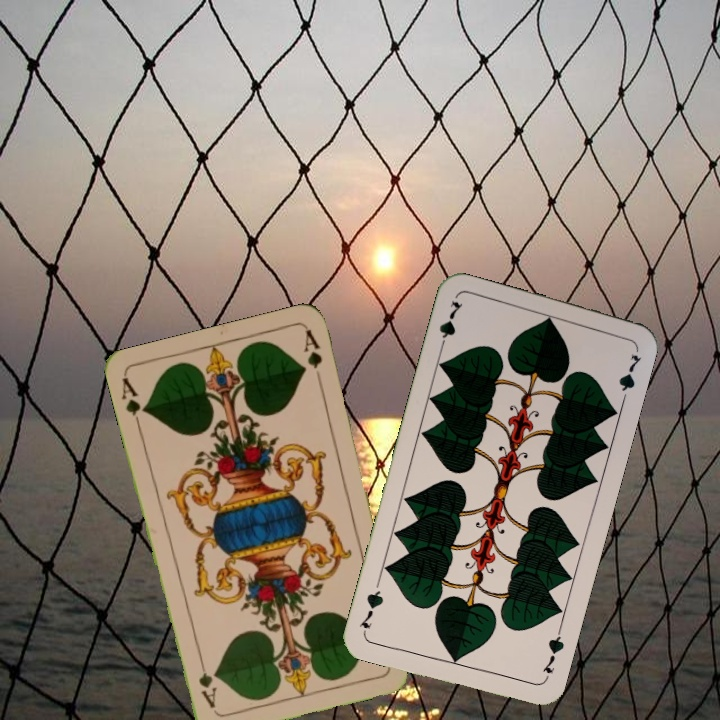G7: (435, 297, 466, 354), (538, 625, 567, 676)
GA: (117, 373, 150, 432)
